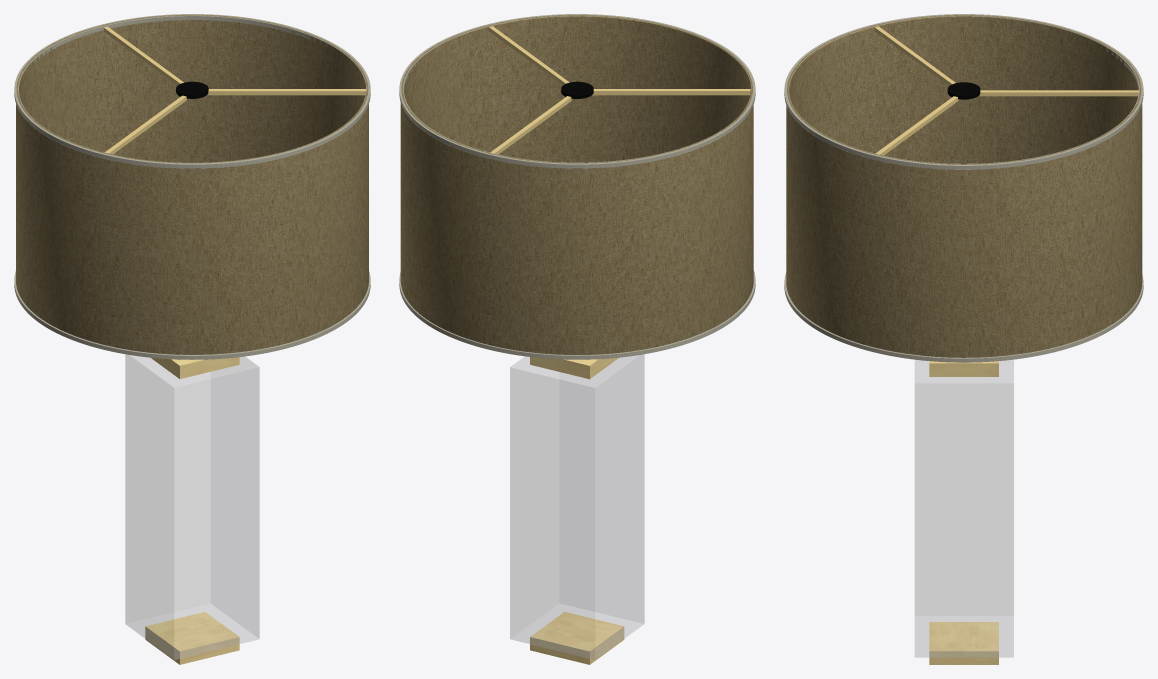
The model's file is square-column-crystal-lamp.glb.
The picture shows the model from 3 angles, left to right: view 1: azimuth 30°, elevation 25°; view 2: azimuth 150°, elevation 25°; view 3: azimuth 270°, elevation 25°; orthographic projection.
Visible parts, largest first — view 1: subscattering, Square Column, support, brass; view 2: subscattering, Square Column, support, brass; view 3: subscattering, Square Column, support, brass.
Part boxes in pixels (bbox=[...]): subscattering: bbox=[16, 15, 368, 354]; Square Column: bbox=[125, 354, 259, 659]; support: bbox=[14, 14, 370, 359]; brass: bbox=[145, 357, 239, 664]; subscattering: bbox=[400, 15, 753, 354]; Square Column: bbox=[510, 354, 644, 659]; support: bbox=[399, 14, 755, 359]; brass: bbox=[530, 357, 624, 664]; subscattering: bbox=[786, 15, 1142, 357]; Square Column: bbox=[915, 360, 1013, 657]; support: bbox=[784, 14, 1143, 362]; brass: bbox=[929, 361, 998, 664].
Bounding box in the file's own units: 0.3617 × 0.6234 × 0.3617.
Materials: 6 (3 with a texture image).
